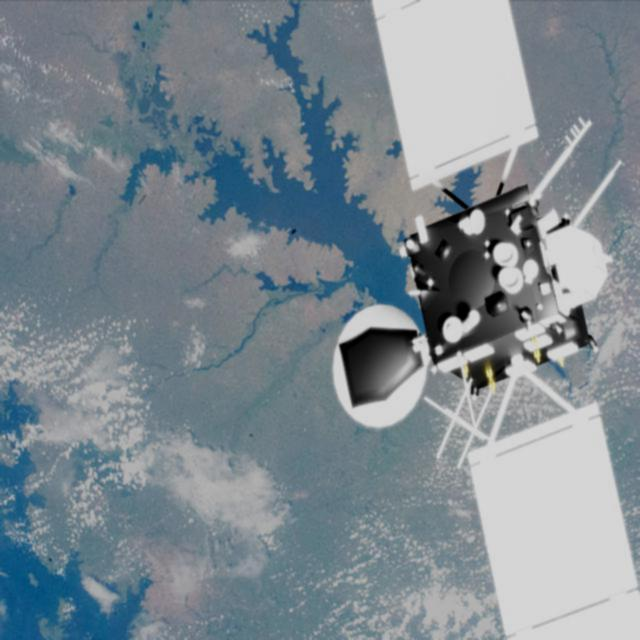satellite: (317, 0, 640, 640)
